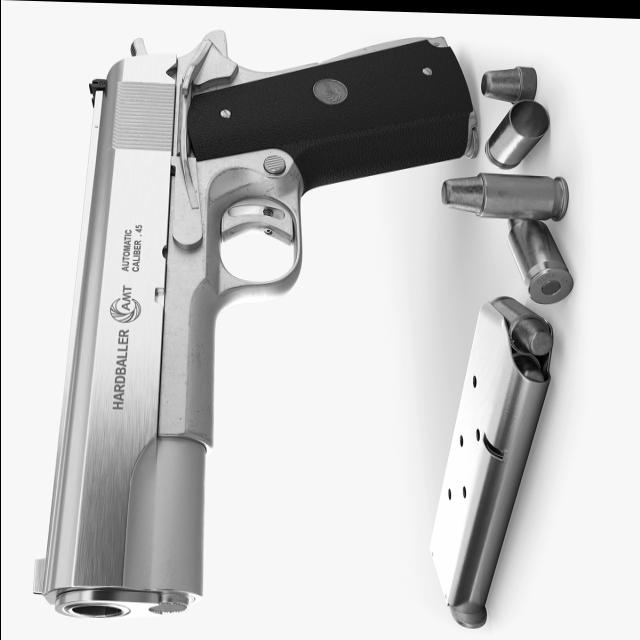handgun: (32, 21, 472, 626)
